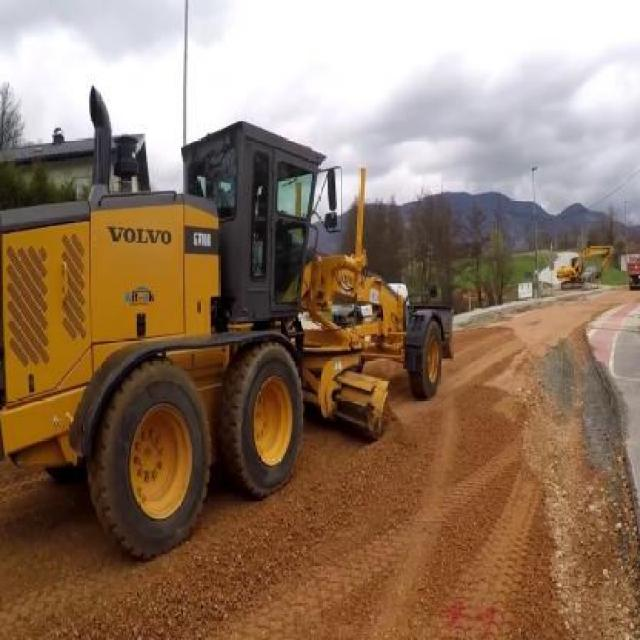excavator: (554, 239, 614, 290)
